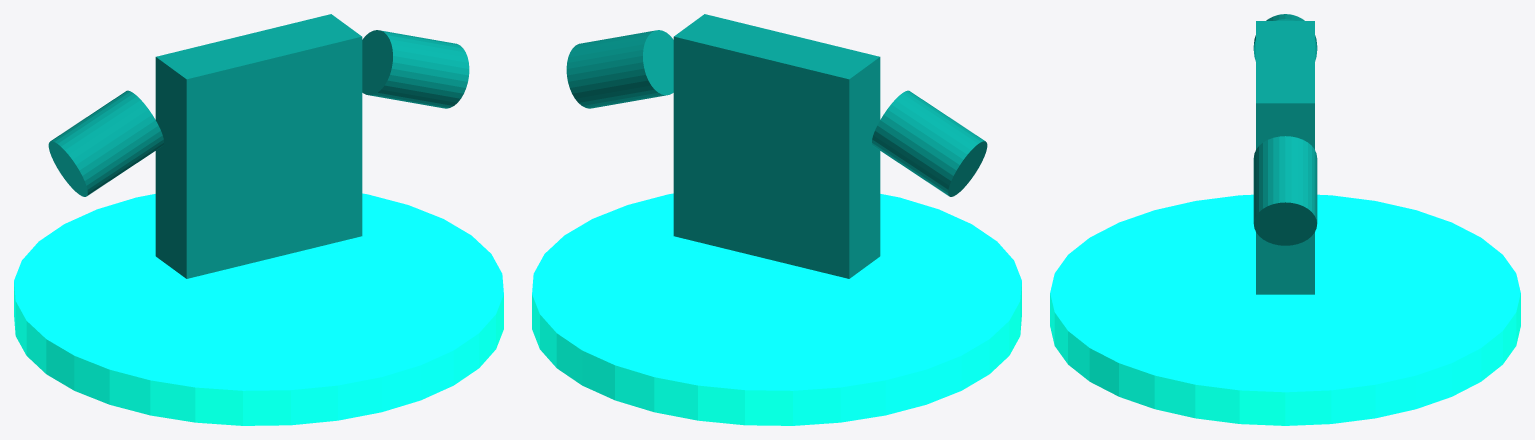
File: fashion_t_shirt.dae
3 views of the same model, side by side, from view 1: azimuth 30°, elevation 25°; view 2: azimuth 150°, elevation 25°; view 3: azimuth 270°, elevation 25° (orthographic). The views are drawn at different scales.
Visible parts, largest first — view 1: 06_06_Popular_Fashion_T_Shirt_ROOT_base, 06_06_Popular_Fashion_T_Shirt_part_01, 06_06_Popular_Fashion_T_Shirt_part_02, 06_06_Popular_Fashion_T_Shirt_part_03; view 2: 06_06_Popular_Fashion_T_Shirt_ROOT_base, 06_06_Popular_Fashion_T_Shirt_part_01, 06_06_Popular_Fashion_T_Shirt_part_02, 06_06_Popular_Fashion_T_Shirt_part_03; view 3: 06_06_Popular_Fashion_T_Shirt_ROOT_base, 06_06_Popular_Fashion_T_Shirt_part_01, 06_06_Popular_Fashion_T_Shirt_part_03.
Boxes of the visible parts, box(x1,y1,x2,y2) form: 06_06_Popular_Fashion_T_Shirt_ROOT_base: box(14, 193, 503, 425); 06_06_Popular_Fashion_T_Shirt_part_01: box(155, 14, 362, 278); 06_06_Popular_Fashion_T_Shirt_part_02: box(48, 90, 163, 196); 06_06_Popular_Fashion_T_Shirt_part_03: box(362, 30, 469, 108); 06_06_Popular_Fashion_T_Shirt_ROOT_base: box(532, 193, 1021, 425); 06_06_Popular_Fashion_T_Shirt_part_01: box(673, 14, 880, 278); 06_06_Popular_Fashion_T_Shirt_part_02: box(872, 90, 987, 196); 06_06_Popular_Fashion_T_Shirt_part_03: box(566, 30, 673, 108); 06_06_Popular_Fashion_T_Shirt_ROOT_base: box(1050, 194, 1520, 425); 06_06_Popular_Fashion_T_Shirt_part_01: box(1256, 21, 1314, 294); 06_06_Popular_Fashion_T_Shirt_part_03: box(1253, 136, 1317, 245).
Size of the model in its own units: 0.76 by 0.471 by 0.76.
